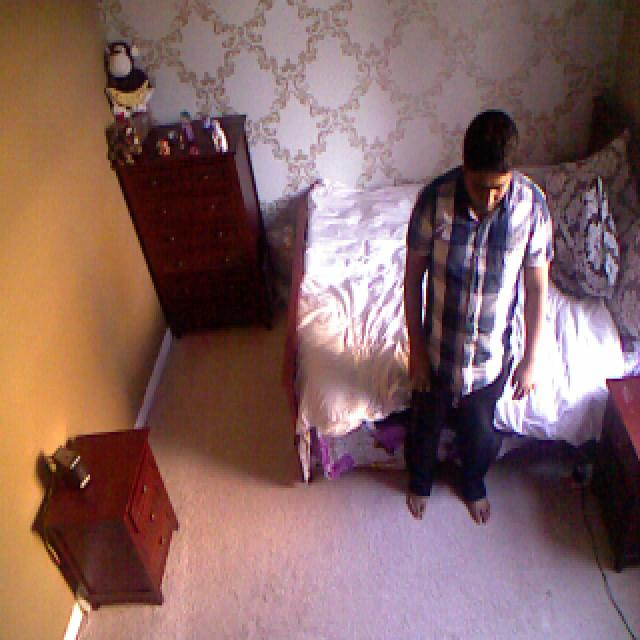standing: (408, 107, 546, 524)
